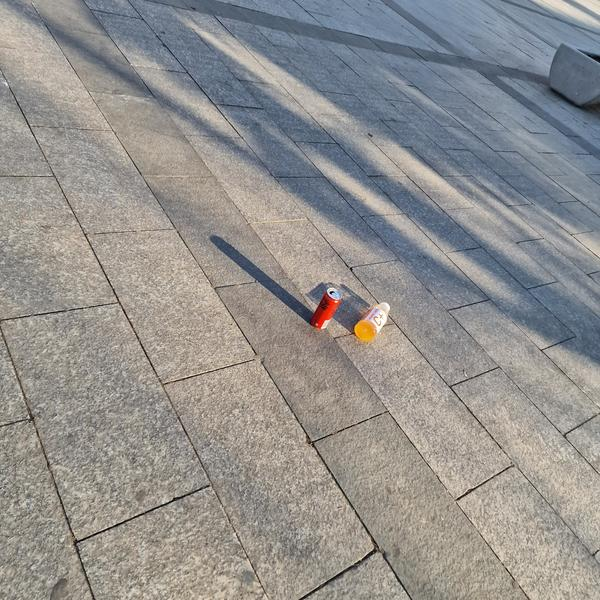can: (308, 285, 346, 332)
plastic_bottle: (350, 296, 397, 347)
